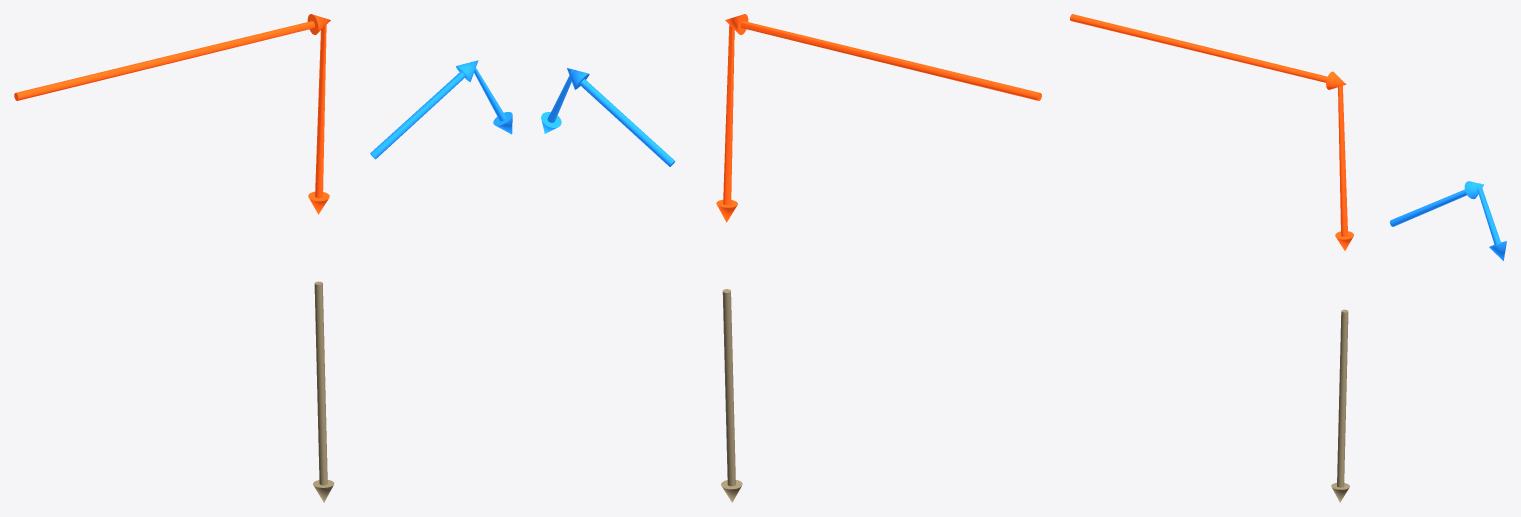
Rendered from seed_classification_unit_flow.glb.
3 views of the same model, side by side, from view 1: azimuth 30°, elevation 25°; view 2: azimuth 150°, elevation 25°; view 3: azimuth 330°, elevation 25° (orthographic). The views are drawn at different scales.
Parts seen in each view (by area): view 1: feed, underflow, overflow; view 2: feed, underflow, overflow; view 3: feed, underflow, overflow.
Part boxes in pixels (bbox=[...]): feed: bbox=[14, 14, 330, 214]; underflow: bbox=[313, 281, 334, 502]; overflow: bbox=[370, 60, 512, 159]; feed: bbox=[716, 14, 1041, 222]; underflow: bbox=[721, 289, 742, 502]; overflow: bbox=[541, 68, 675, 166]; feed: bbox=[1070, 14, 1353, 250]; underflow: bbox=[1331, 309, 1349, 502]; overflow: bbox=[1389, 181, 1506, 260].
Size of the model in its own units: 2.74 by 2.59 by 0.154.
